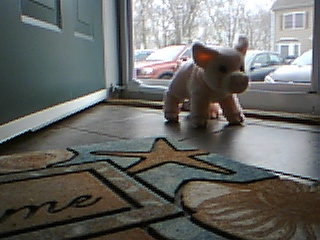piggy: (162, 34, 253, 130)
